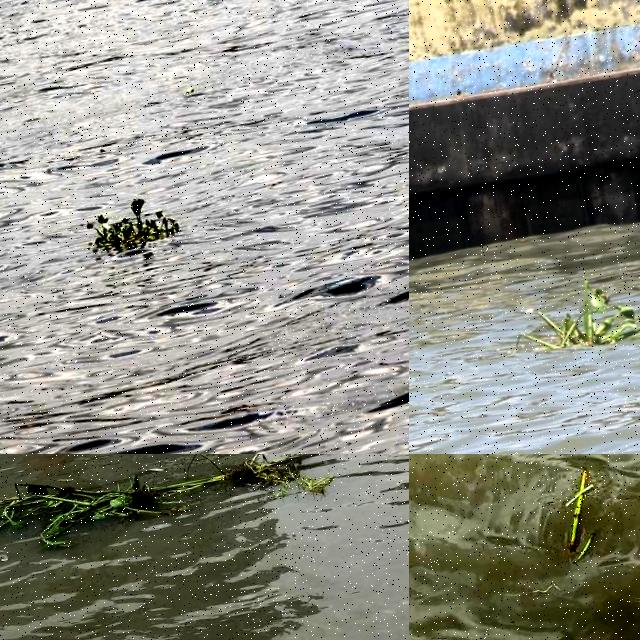water-hyacinth: (1, 455, 323, 562), (507, 264, 640, 363), (84, 190, 181, 259)
